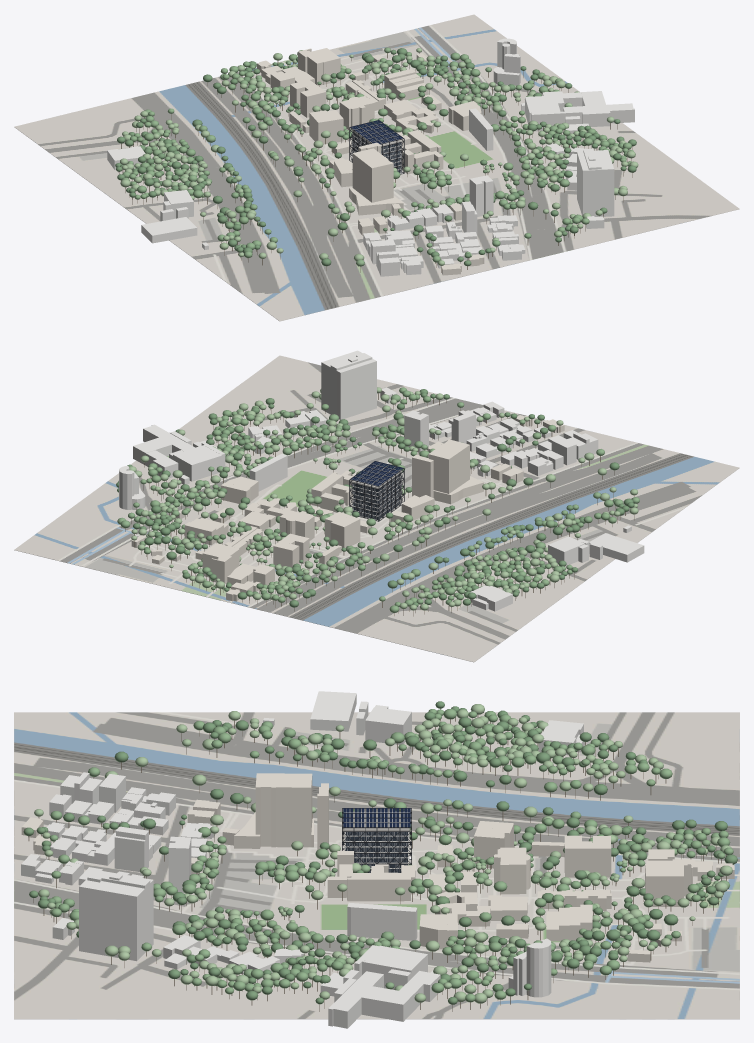
Rendered from bloque20.glb.
3 renders of one model, top to bottom at view 1: azimuth 30°, elevation 25°; view 2: azimuth 150°, elevation 25°; view 3: azimuth 270°, elevation 25°, orthographic. The views are drawn at different scales.
Visible parts, largest first — view 1: Suelo, Edificios ciudad, Edificios campus, Copas 1, Copas 2, Copas 3, Troncos, Exoesqueleto, Cubierta solar; view 2: Suelo, Edificios ciudad, Edificios campus, Copas 2, Copas 1, Copas 3, Troncos, Exoesqueleto, Cubierta solar; view 3: Suelo, Edificios ciudad, Edificios campus, Copas 2, Copas 1, Copas 3, Troncos, Exoesqueleto, Cubierta solar, Techo.
Part boxes in pixels (x1=…): Suelo: x1=14, y1=14, x2=739, y2=321; Edificios ciudad: x1=107, y1=38, x2=634, y2=276; Edificios campus: x1=257, y1=48, x2=484, y2=275; Copas 1: x1=120, y1=48, x2=638, y2=265; Copas 2: x1=121, y1=47, x2=633, y2=266; Copas 3: x1=115, y1=48, x2=636, y2=266; Troncos: x1=118, y1=53, x2=633, y2=272; Exoesqueleto: x1=349, y1=120, x2=404, y2=174; Cubierta solar: x1=351, y1=120, x2=402, y2=143; Suelo: x1=14, y1=355, x2=739, y2=662; Edificios ciudad: x1=119, y1=350, x2=644, y2=611; Edificios campus: x1=131, y1=415, x2=564, y2=601; Copas 2: x1=117, y1=387, x2=639, y2=612; Copas 1: x1=129, y1=387, x2=638, y2=610; Copas 3: x1=116, y1=389, x2=634, y2=607; Troncos: x1=121, y1=393, x2=634, y2=616; Exoesqueleto: x1=349, y1=461, x2=404, y2=521; Cubierta solar: x1=351, y1=461, x2=402, y2=485; Suelo: x1=14, y1=712, x2=739, y2=1019; Edificios ciudad: x1=21, y1=691, x2=586, y2=1028; Edificios campus: x1=21, y1=773, x2=734, y2=962; Copas 2: x1=49, y1=709, x2=733, y2=1002; Copas 1: x1=34, y1=704, x2=732, y2=1003; Copas 3: x1=23, y1=701, x2=737, y2=1004; Troncos: x1=28, y1=708, x2=726, y2=1011; Exoesqueleto: x1=342, y1=808, x2=411, y2=872; Cubierta solar: x1=343, y1=808, x2=410, y2=827; Techo: x1=344, y1=811, x2=409, y2=831.
Size of the model in its own units: 546 by 57.11 by 512.
18 materials, 1 textured.
